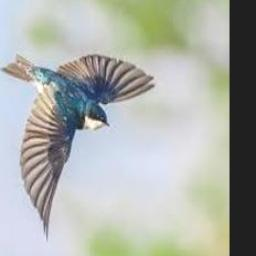Swallow: (0, 51, 156, 242)
